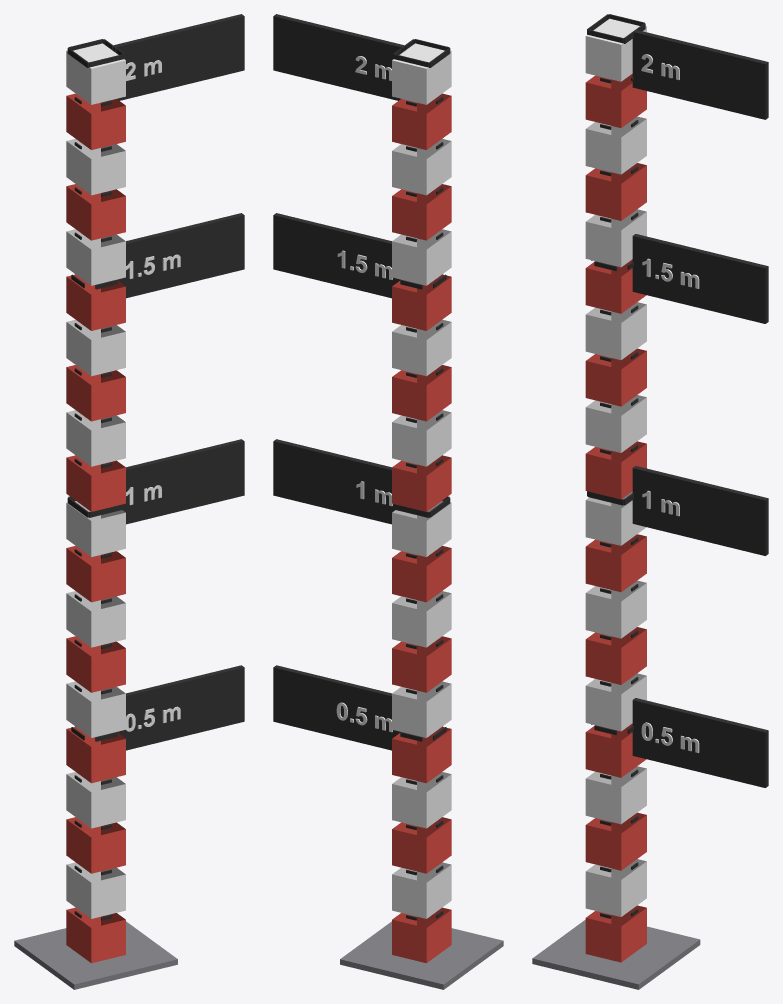
The model's file is HeightRuler.fbx.
3 renders of one model, left to right at view 1: azimuth 30°, elevation 25°; view 2: azimuth 150°, elevation 25°; view 3: azimuth 330°, elevation 25°, orthographic. The views are drawn at different scales.
Visible parts, largest first — view 1: HeightRuler; view 2: HeightRuler; view 3: HeightRuler.
Boxes of the visible parts, bbox=[...] form: HeightRuler: bbox=[14, 14, 244, 989]; HeightRuler: bbox=[273, 14, 503, 989]; HeightRuler: bbox=[532, 14, 768, 989].
Bounding box in the file's own units: 0.46 × 2 × 0.24.
